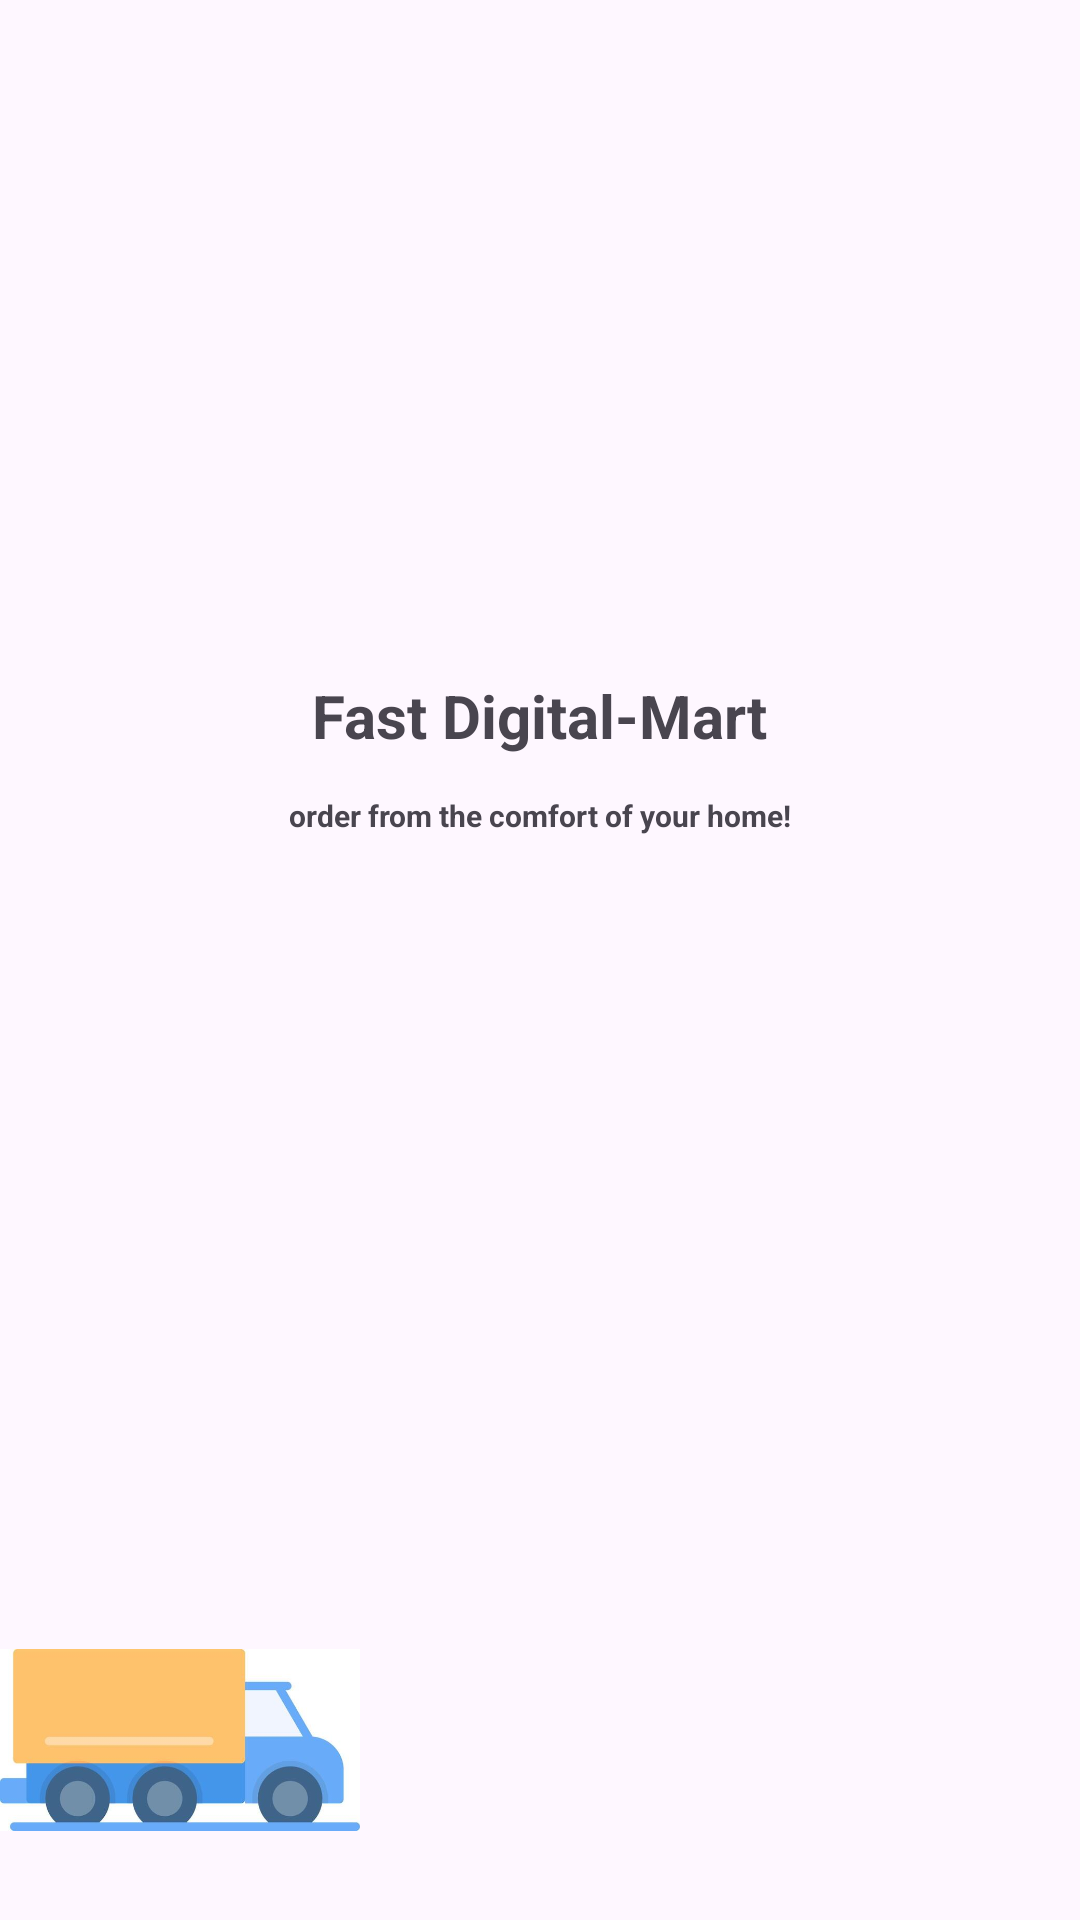

Locate icon controls on the screen. Image size 1080x1920, boxes as (x1, y1, x2, y2).
truck: (0, 1649, 360, 1831)
